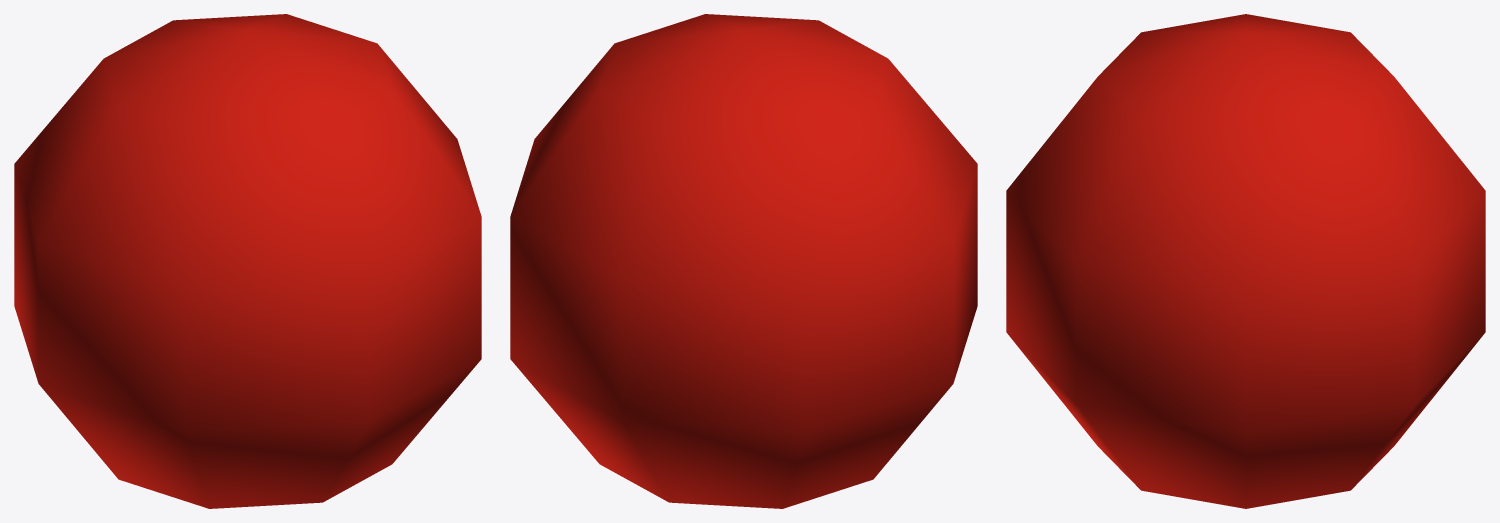
Rendered from bne_beacon_glow.dae.
The picture shows the model from 3 angles, left to right: view 1: azimuth 30°, elevation 25°; view 2: azimuth 150°, elevation 25°; view 3: azimuth 270°, elevation 25°; orthographic projection.
Parts seen in each view (by area): view 1: glow2; view 2: glow2; view 3: glow2.
Part boxes in pixels (left/top/right/bottom): glow2: left=14, top=14, right=481, bottom=508; glow2: left=510, top=14, right=977, bottom=508; glow2: left=1006, top=14, right=1485, bottom=508.
Size of the model in its own units: 97.39 by 97.39 by 102.
